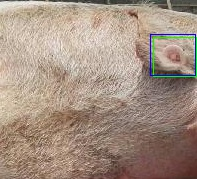text: (153, 37, 196, 76)
